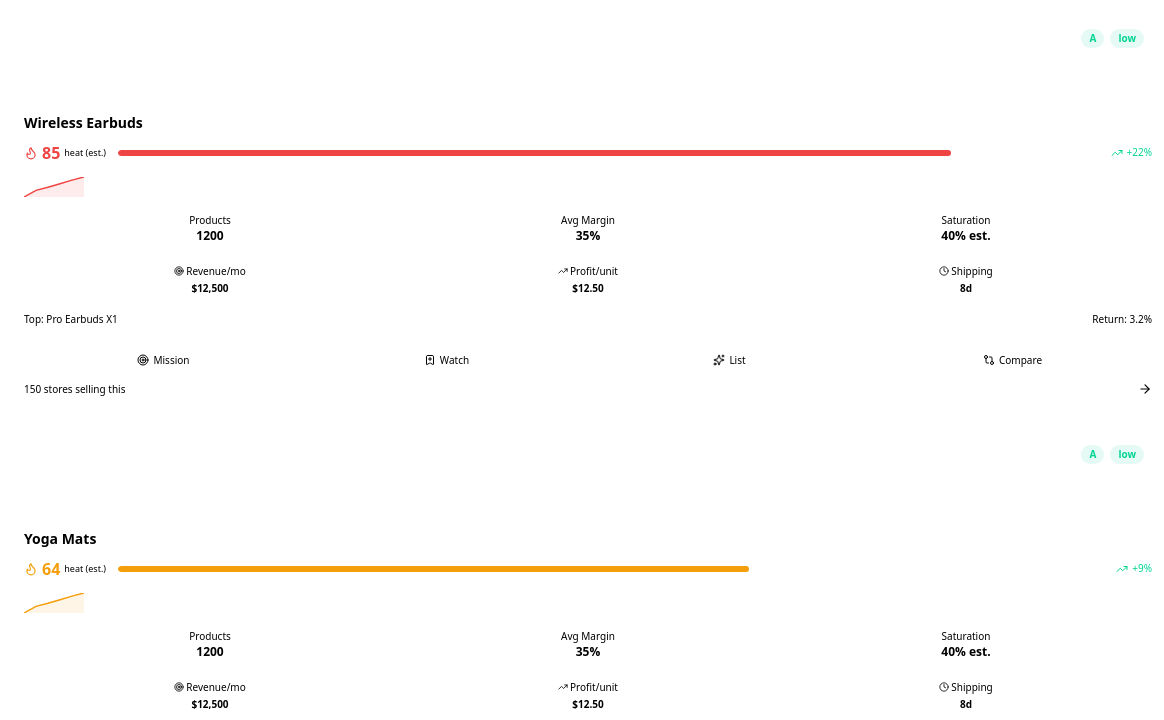
Test case: NichesPage › clears the comparison when the Comparing button is clicked
(page scrolled)
Click the button titled "Compare". click: point(1012, 360)
box: x1=873 y1=346 x2=1152 y2=374
(page scrolled)
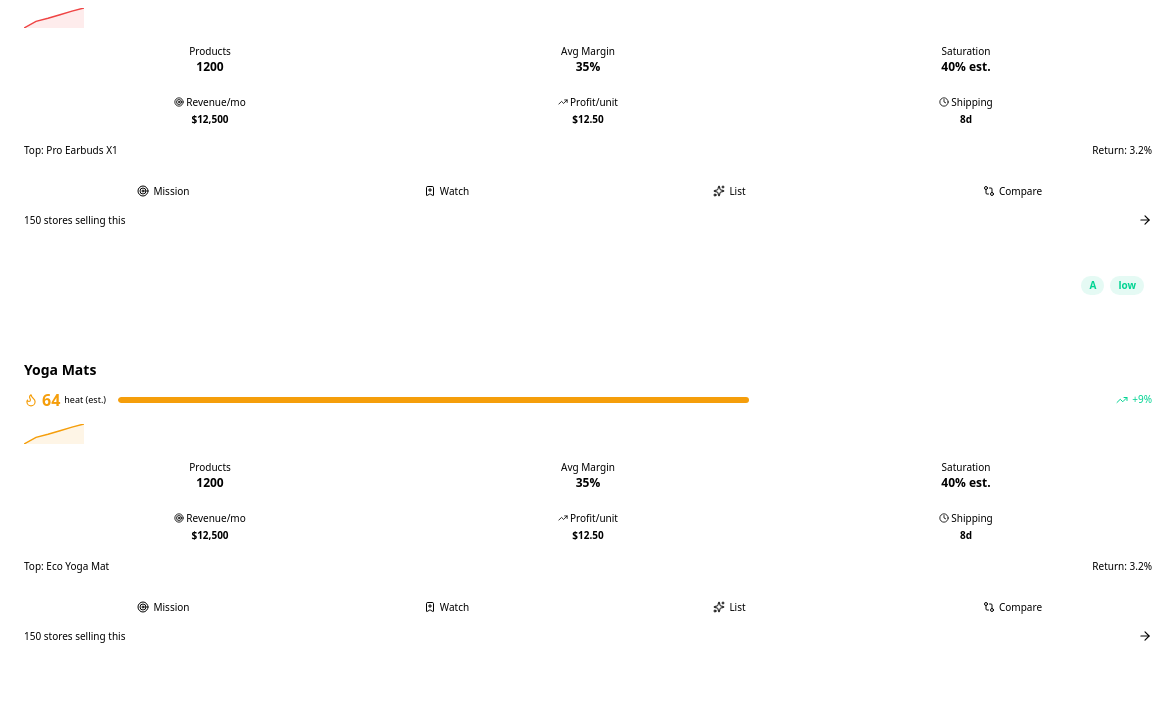
Click the button titled "Compare" below "+9%". click: point(1012, 607)
box: x1=873 y1=594 x2=1152 y2=620
(page scrolled)
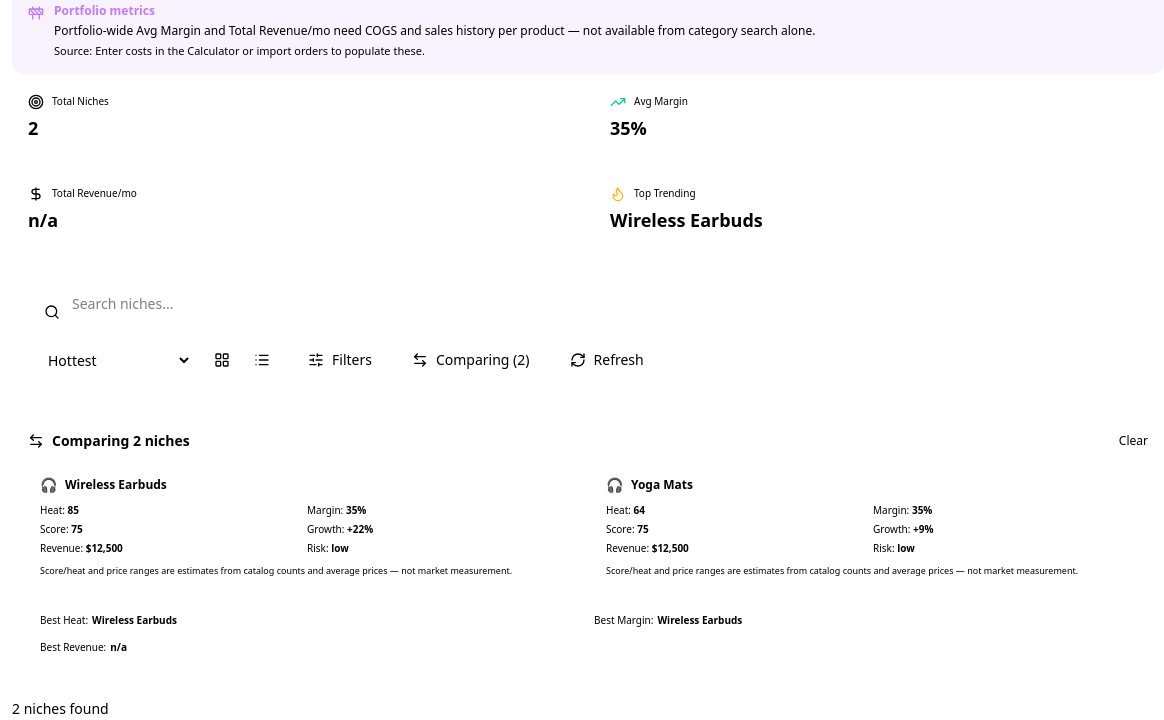
Expected: the text "Comparing 2 niches" is shown, x1=52 y1=430 x2=190 y2=450
Click the button "Comparing (2)". click: point(471, 360)
box: x1=396 y1=338 x2=546 y2=382
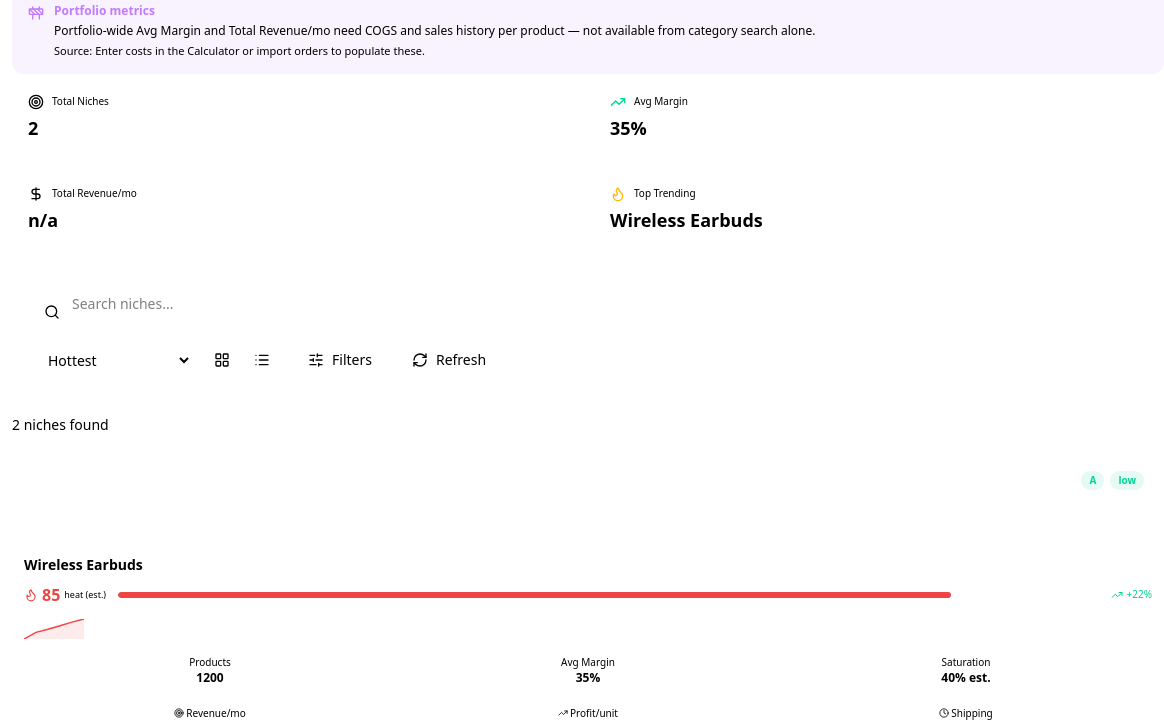
Expected: the text "Comparing 2 niches" is gone
